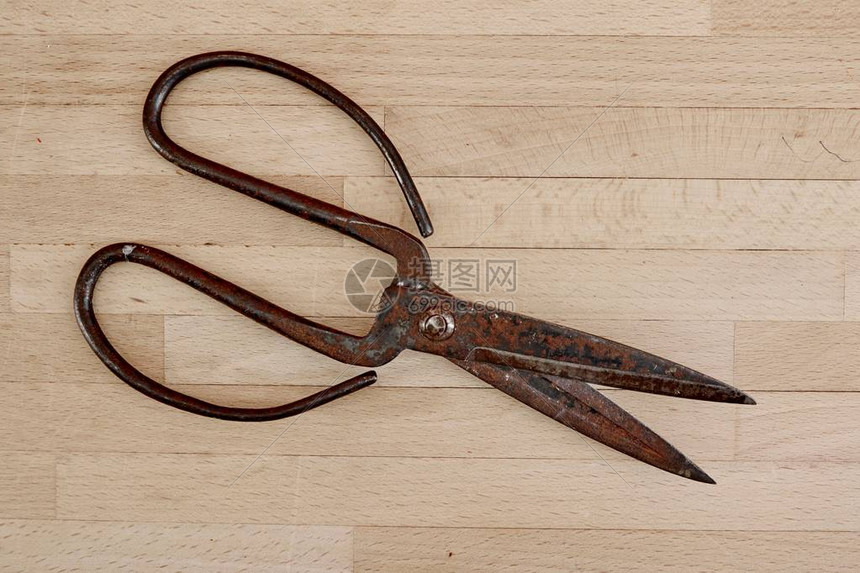scissors: (59, 45, 767, 492)
